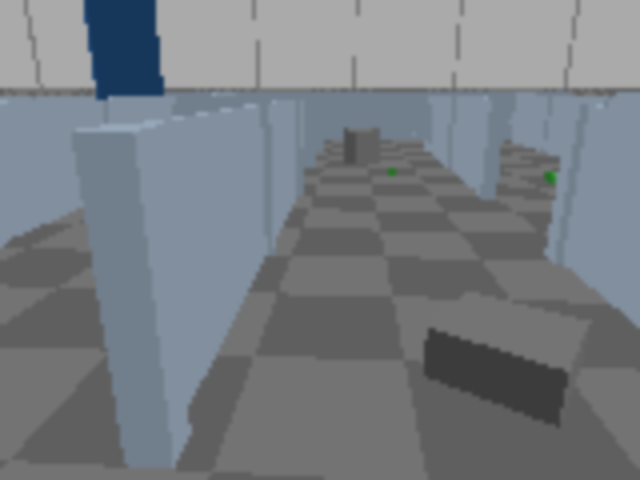obstacle: (343, 128, 381, 165)
